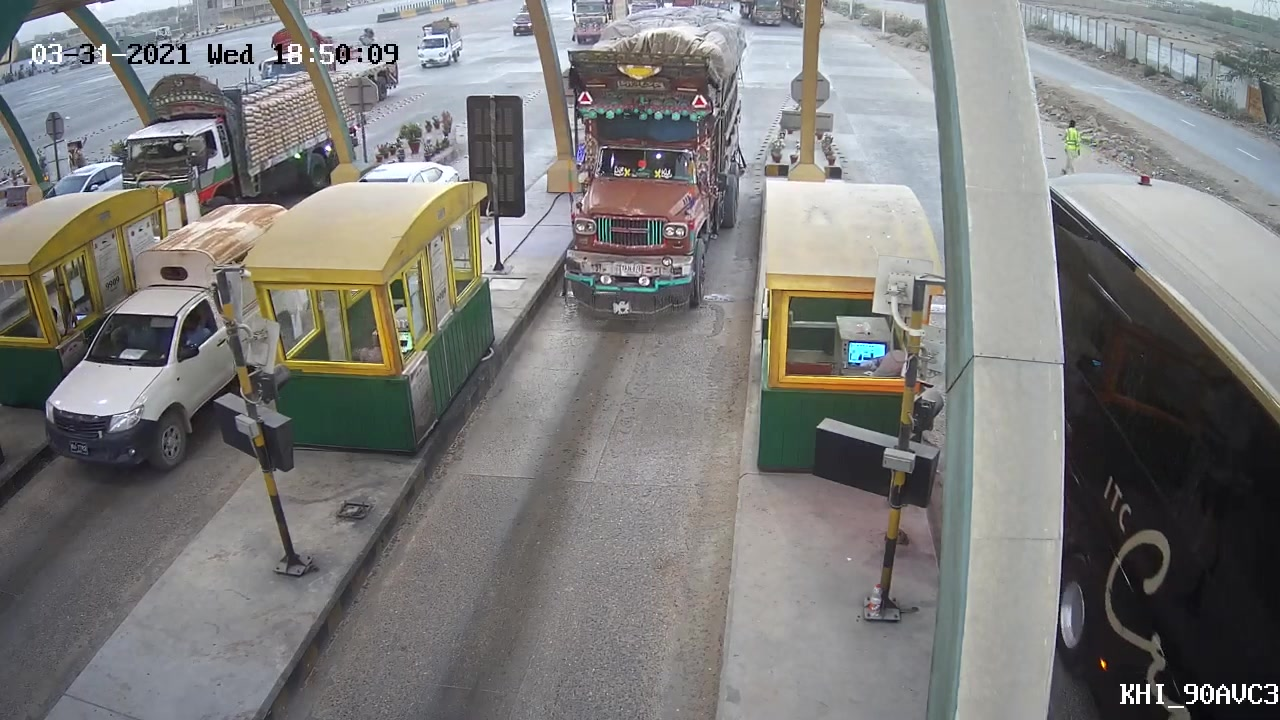F5: (543, 46, 731, 327)
